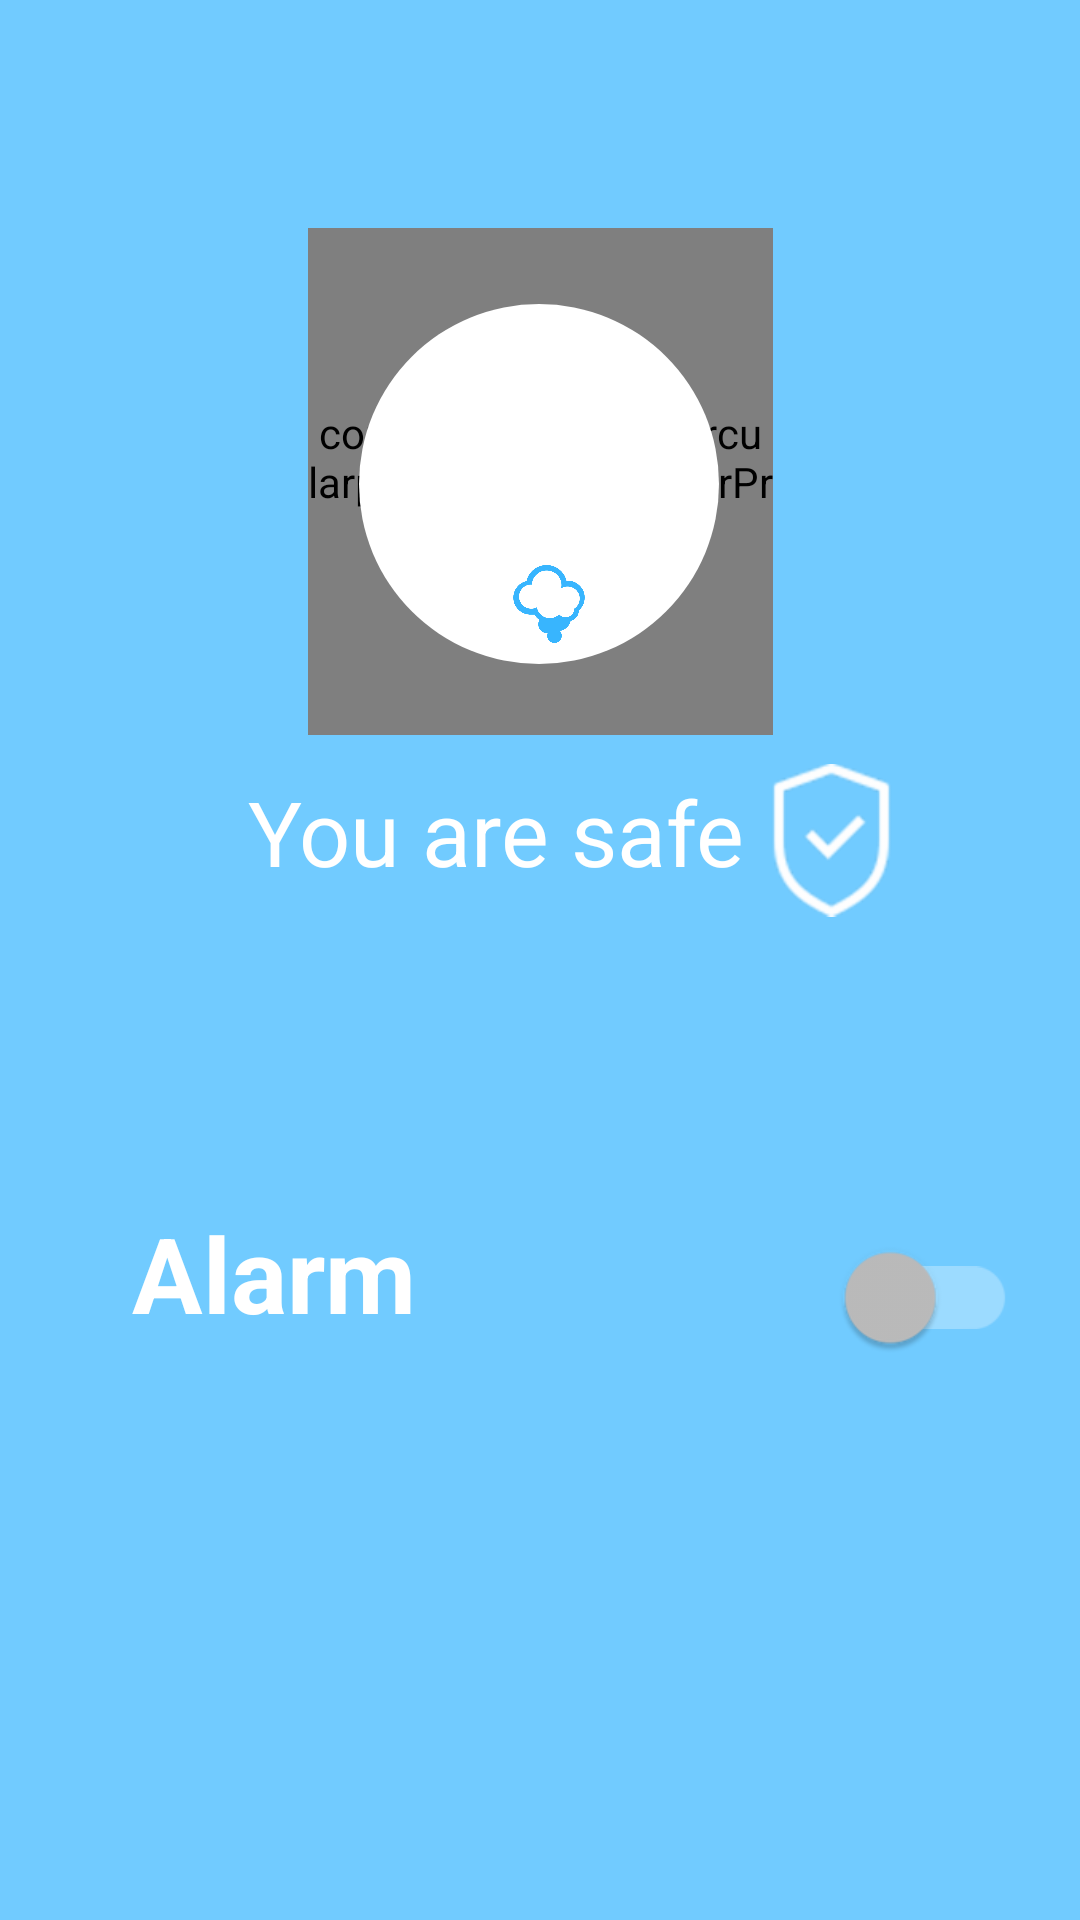

Point at icon controls on the screen. Image size 1080 × 1920, points as [x,y].
smoke: [549,604]
